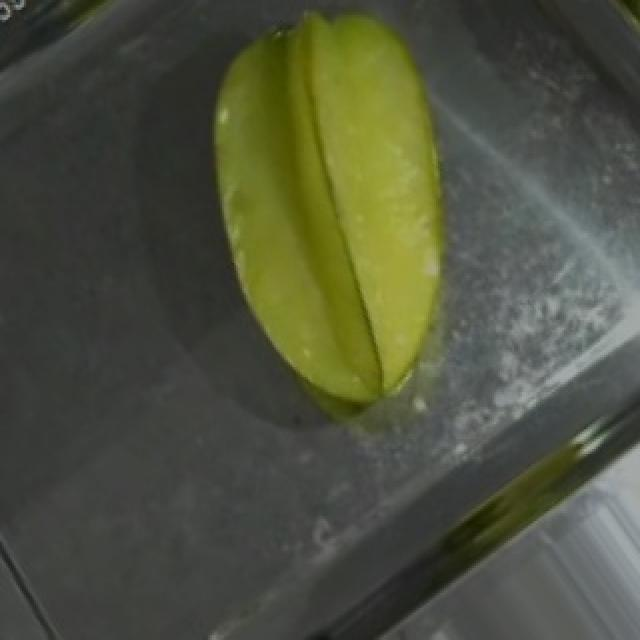fruit: (74, 0, 540, 454), (512, 469, 640, 640)
